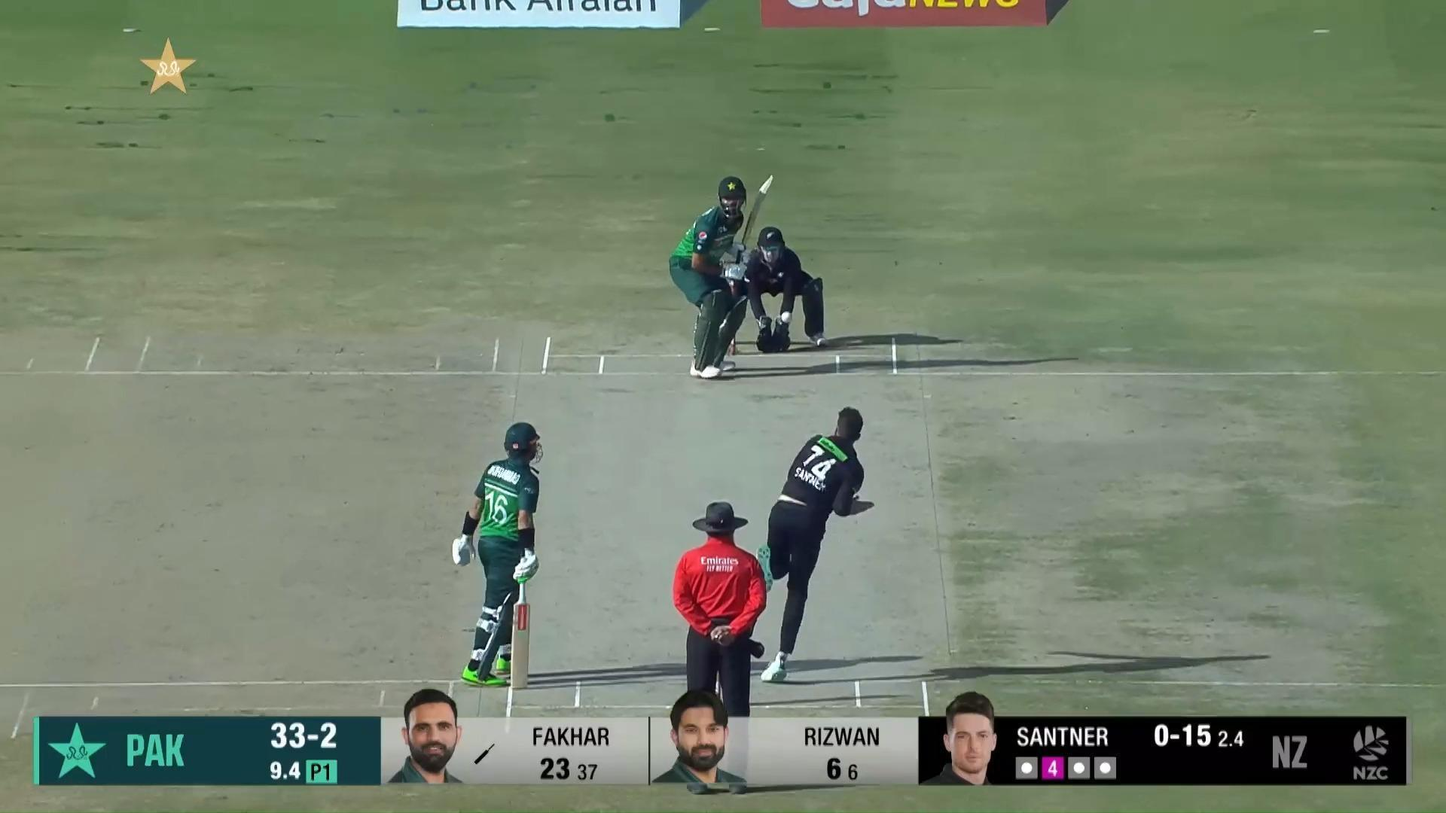BM 1: (670, 175, 774, 379)
BO: (755, 406, 876, 682)
